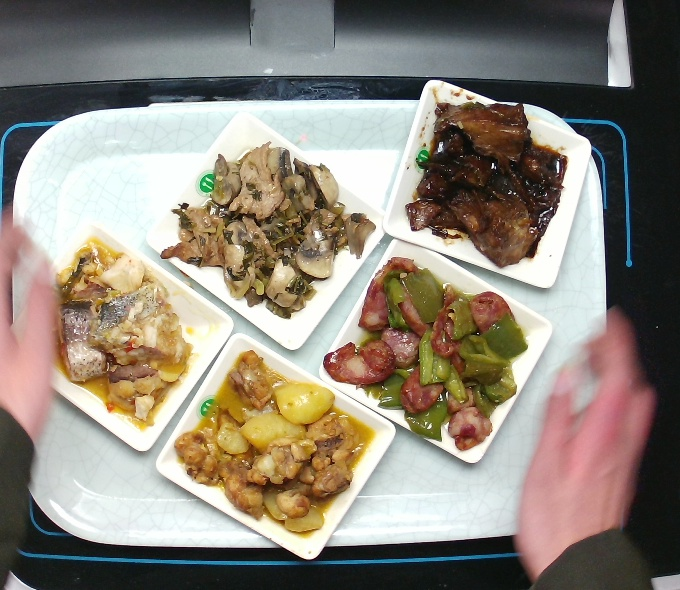wcq-JiangZhiYa: (405, 99, 569, 267)
wcq-MoGuRouPian: (157, 140, 379, 319)
wcq-QingJiaoXiangChang: (320, 254, 529, 451)
wcq-SuanCaiYu: (51, 237, 198, 430)
wcq-TuDouJiKuai: (172, 347, 379, 533)
